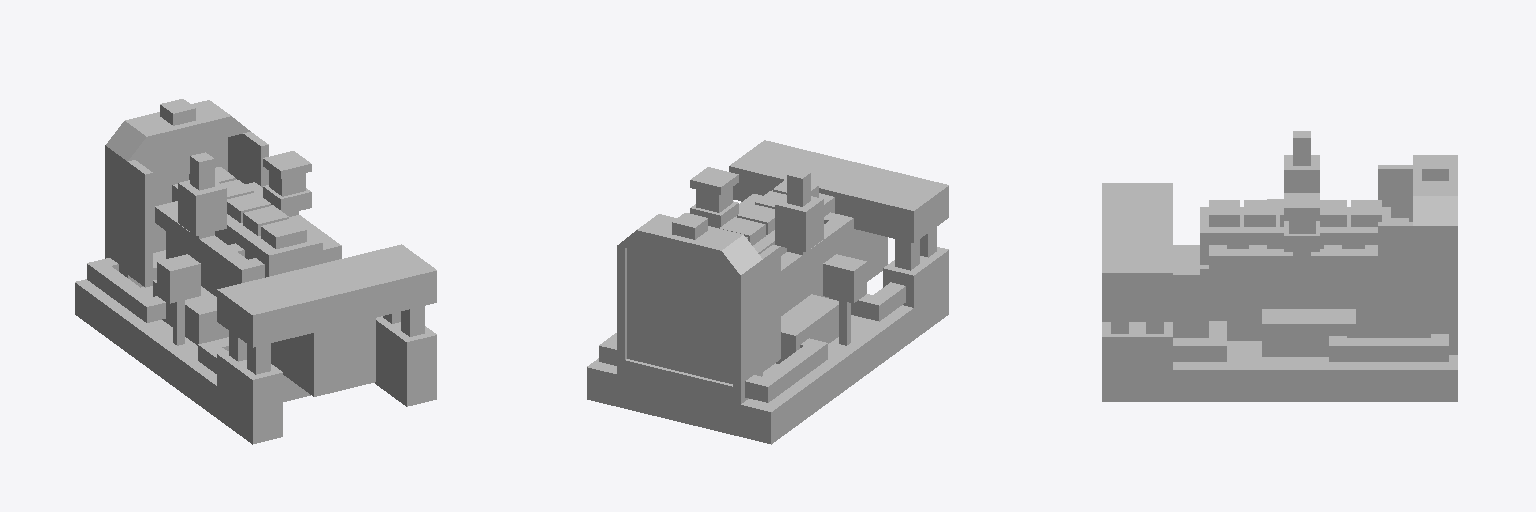
Rendered from dieselGenerator_mirrored.obj.
The picture shows the model from 3 angles: view 1: azimuth 30°, elevation 25°; view 2: azimuth 150°, elevation 25°; view 3: azimuth 270°, elevation 25°; orthographic projection.
Visible parts, largest first — view 1: base; view 2: base; view 3: base.
Boxes of the visible parts, <box> form: base: <box>75,99,436,444</box>; base: <box>587,140,948,444</box>; base: <box>1102,131,1457,401</box>.
Size of the model in its own units: 3 by 3.13 by 5.